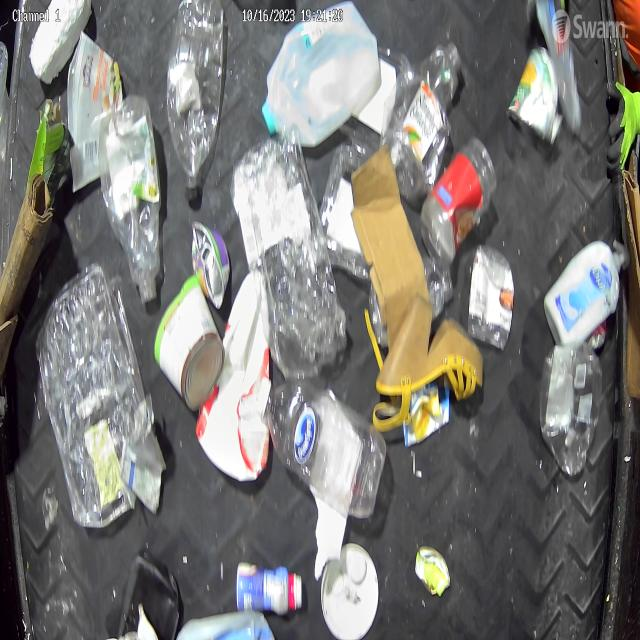can: (154, 275, 226, 414), (189, 220, 231, 310), (414, 544, 452, 598), (590, 321, 608, 349)
milk_jug: (260, 0, 382, 150), (194, 264, 271, 483)
non_white_jug: (118, 547, 181, 640)
plastic_bottle: (256, 373, 388, 521), (97, 93, 163, 305), (379, 40, 463, 203), (166, 0, 224, 204), (368, 258, 454, 350)
